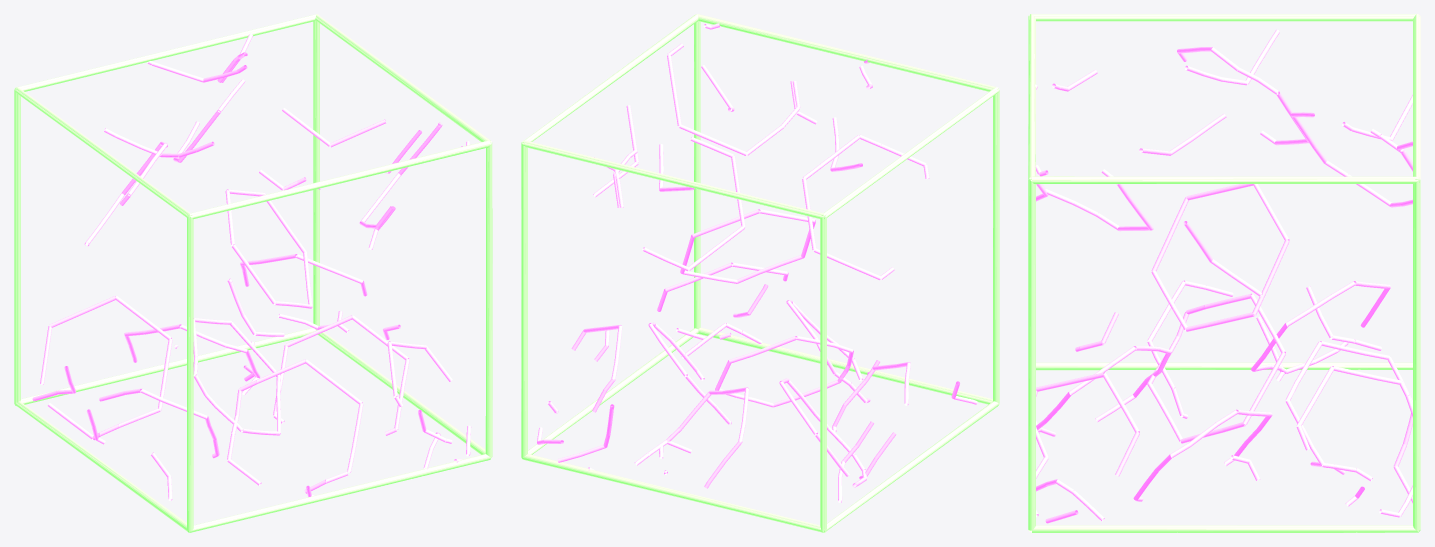
The model's file is dislocation100.glb.
3 renders of one model, left to right at view 1: azimuth 30°, elevation 25°; view 2: azimuth 150°, elevation 25°; view 3: azimuth 270°, elevation 25°, orthographic. The views are drawn at different scales.
Visible parts, largest first — view 1: Shape_IndexedLineSet, Shape_IndexedLineSet.001; view 2: Shape_IndexedLineSet, Shape_IndexedLineSet.001; view 3: Shape_IndexedLineSet.001, Shape_IndexedLineSet.
Part boxes in pixels (x1=…): Shape_IndexedLineSet: x1=14, y1=14, x2=492, y2=532; Shape_IndexedLineSet.001: x1=32, y1=34, x2=471, y2=500; Shape_IndexedLineSet: x1=521, y1=14, x2=999, y2=532; Shape_IndexedLineSet.001: x1=536, y1=23, x2=977, y2=502; Shape_IndexedLineSet.001: x1=1035, y1=29, x2=1413, y2=523; Shape_IndexedLineSet: x1=1028, y1=14, x2=1420, y2=532.
Size of the model in its own units: 1.02 by 1.02 by 1.02.
